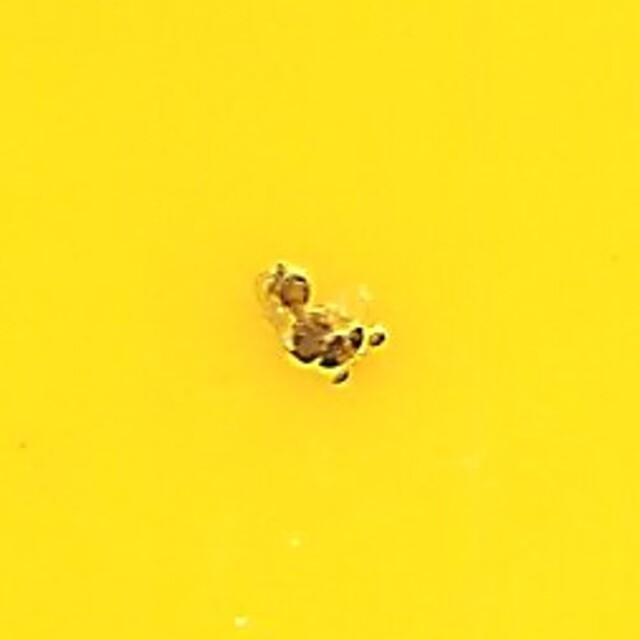Hymenoptera: (253, 256, 387, 384)
